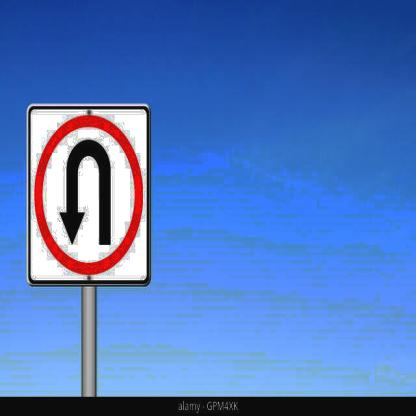U-turn: (27, 104, 150, 289)
